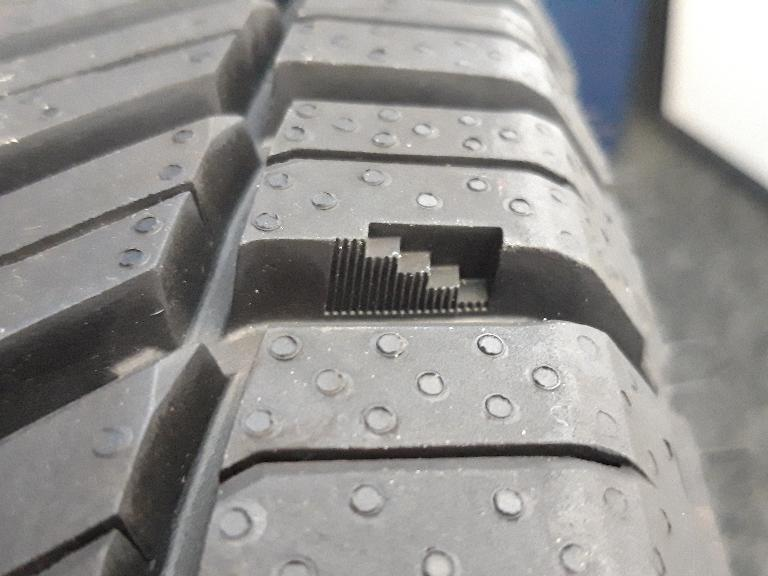temoin:100: (319, 215, 514, 328)
